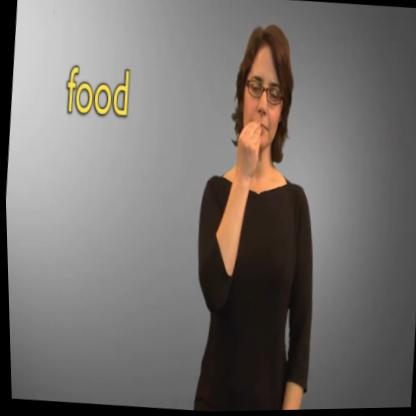Food: (195, 2, 317, 270)
